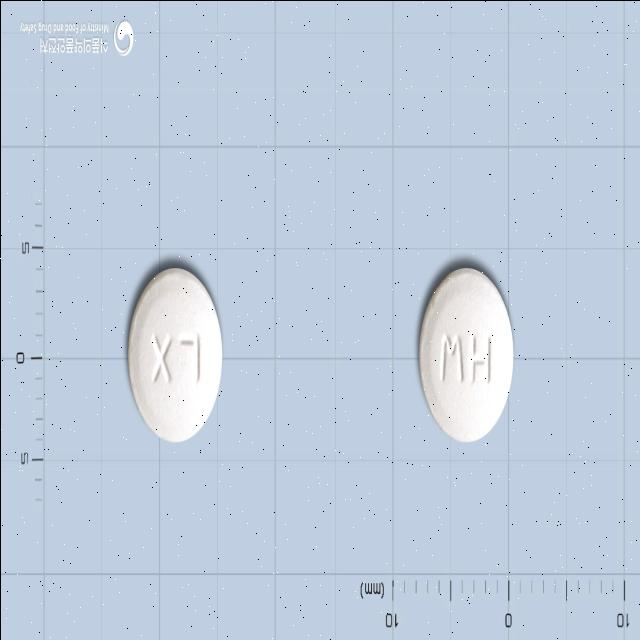Max-xacin: (126, 266, 222, 444), (418, 266, 512, 442)
